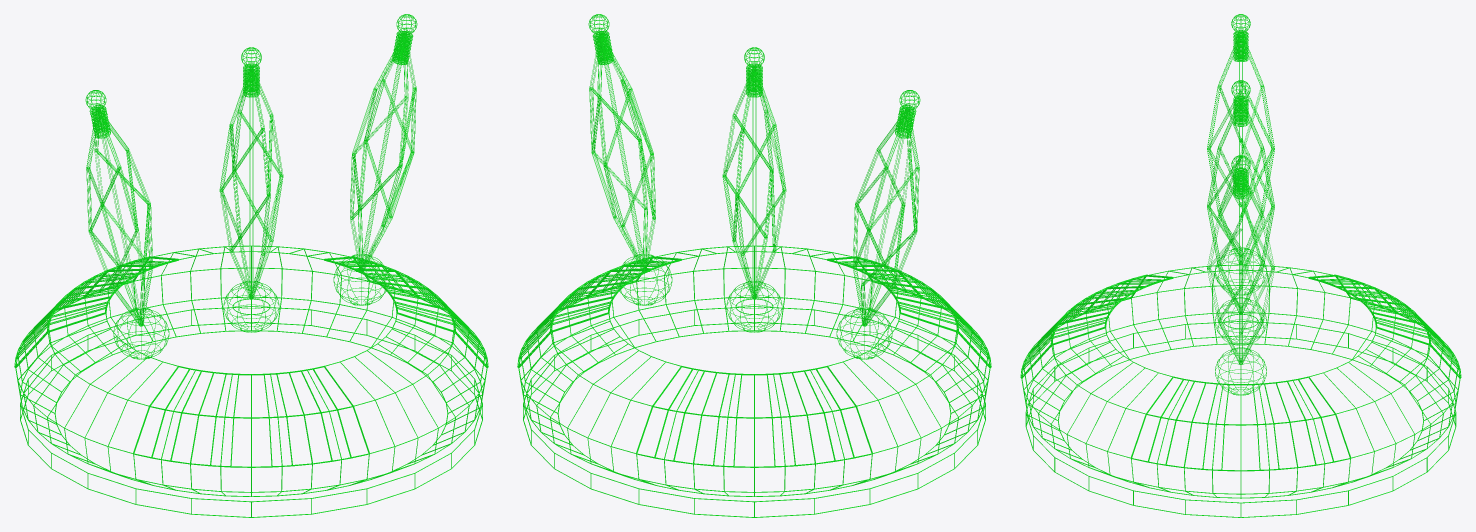
Rendered from screen-generator-wireframe.glb.
The picture shows the model from 3 angles, left to right: view 1: azimuth 30°, elevation 25°; view 2: azimuth 150°, elevation 25°; view 3: azimuth 270°, elevation 25°; orthographic projection. The views are drawn at different scales.
Visible parts, largest first — view 1: chassis technical wire, three-field-masts technical wire, phase-synchronising-oscillators technical wire, reverse-polarity-suppressers technical wire; view 2: chassis technical wire, three-field-masts technical wire, phase-synchronising-oscillators technical wire, reverse-polarity-suppressers technical wire; view 3: chassis technical wire, three-field-masts technical wire, phase-synchronising-oscillators technical wire, reverse-polarity-suppressers technical wire.
Boxes of the visible parts, bbox=[...] form: chassis technical wire: bbox=[14, 245, 488, 517]; three-field-masts technical wire: bbox=[86, 28, 416, 326]; phase-synchronising-oscillators technical wire: bbox=[113, 254, 389, 359]; reverse-polarity-suppressers technical wire: bbox=[85, 14, 417, 138]; chassis technical wire: bbox=[517, 245, 991, 517]; three-field-masts technical wire: bbox=[589, 28, 919, 326]; phase-synchronising-oscillators technical wire: bbox=[616, 254, 892, 359]; reverse-polarity-suppressers technical wire: bbox=[588, 14, 920, 138]; chassis technical wire: bbox=[1020, 264, 1461, 517]; three-field-masts technical wire: bbox=[1207, 28, 1274, 364]; phase-synchronising-oscillators technical wire: bbox=[1215, 247, 1266, 395]; reverse-polarity-suppressers technical wire: bbox=[1231, 14, 1250, 199].
Bounding box in the file's own units: 2.05 × 1.78 × 2.05.
